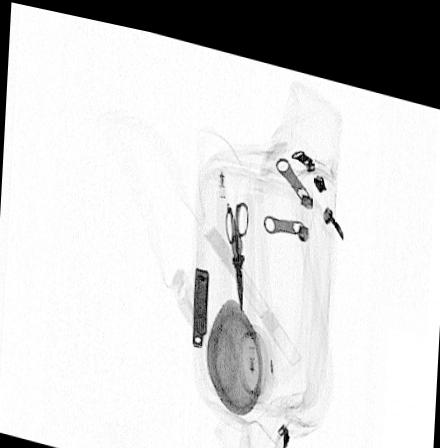Scissors: (222, 190, 250, 304)
